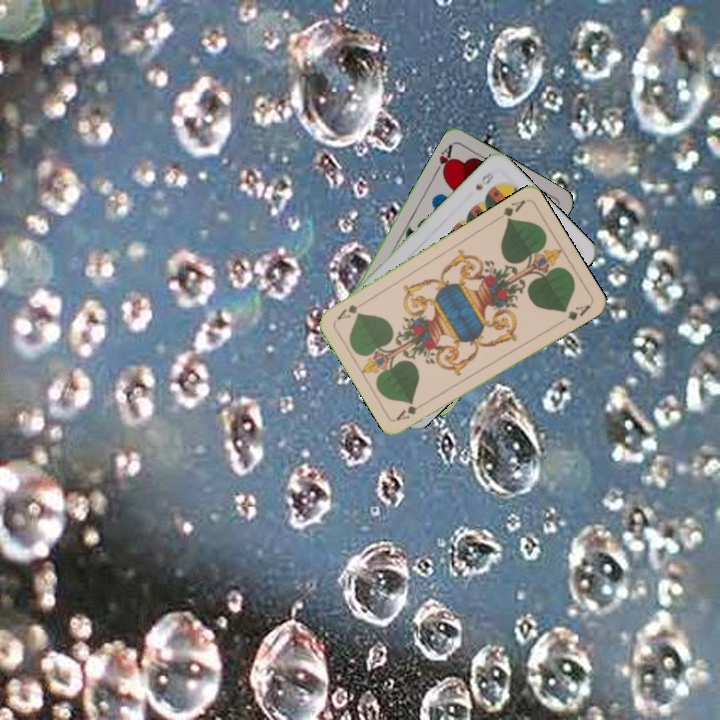GA: (491, 196, 528, 224), (392, 397, 430, 423)
HA: (430, 140, 456, 178)
S8: (471, 167, 496, 193)
